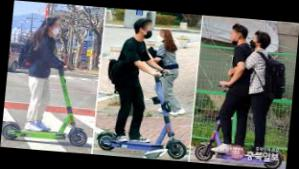multiple: (194, 20, 296, 169)
nonhelmet: (96, 16, 200, 159), (3, 13, 100, 146)
